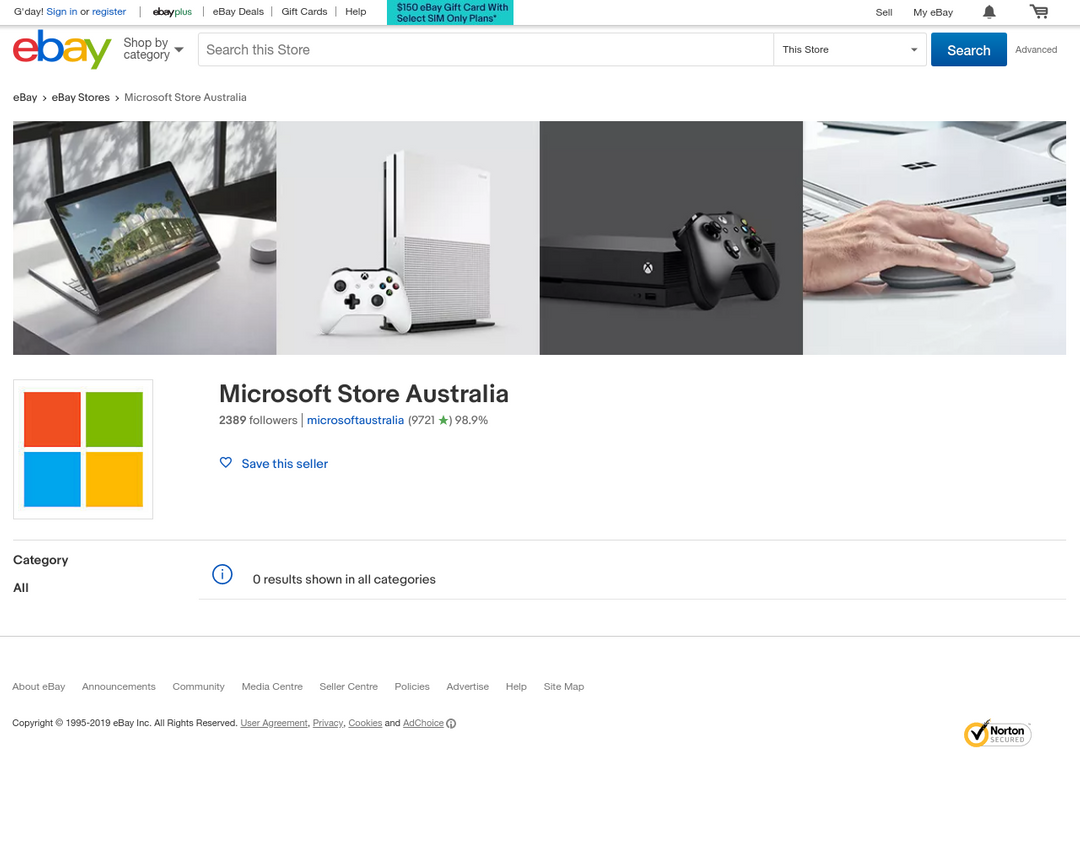Ebay: (10, 24, 115, 72)
Microsoft: (18, 386, 147, 514)
